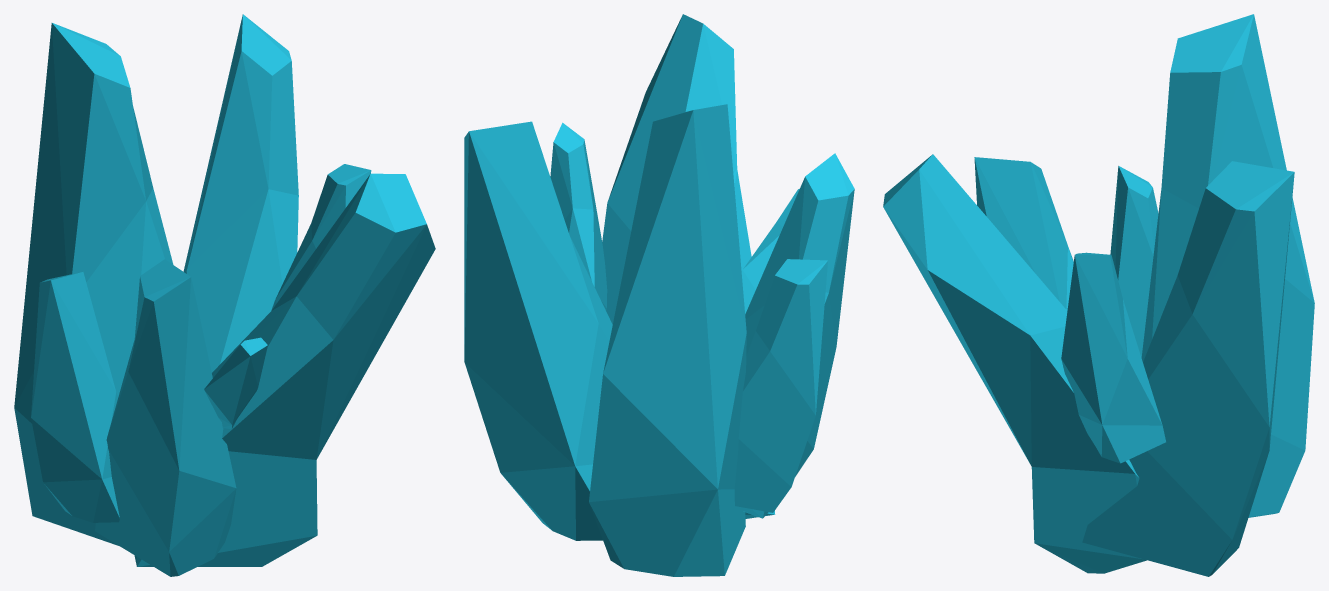
Rendered from ore03.fbx.
3 renders of one model, left to right at view 1: azimuth 30°, elevation 25°; view 2: azimuth 150°, elevation 25°; view 3: azimuth 270°, elevation 25°, orthographic. The views are drawn at different scales.
Visible parts, largest first — view 1: vicium; view 2: vicium; view 3: vicium.
Boxes of the visible parts, x1,y1,x2,y2 form: vicium: (14,14,435,576); vicium: (464,14,854,576); vicium: (883,14,1314,576).
Size of the model in its own units: 1.82 by 2.24 by 2.86.
